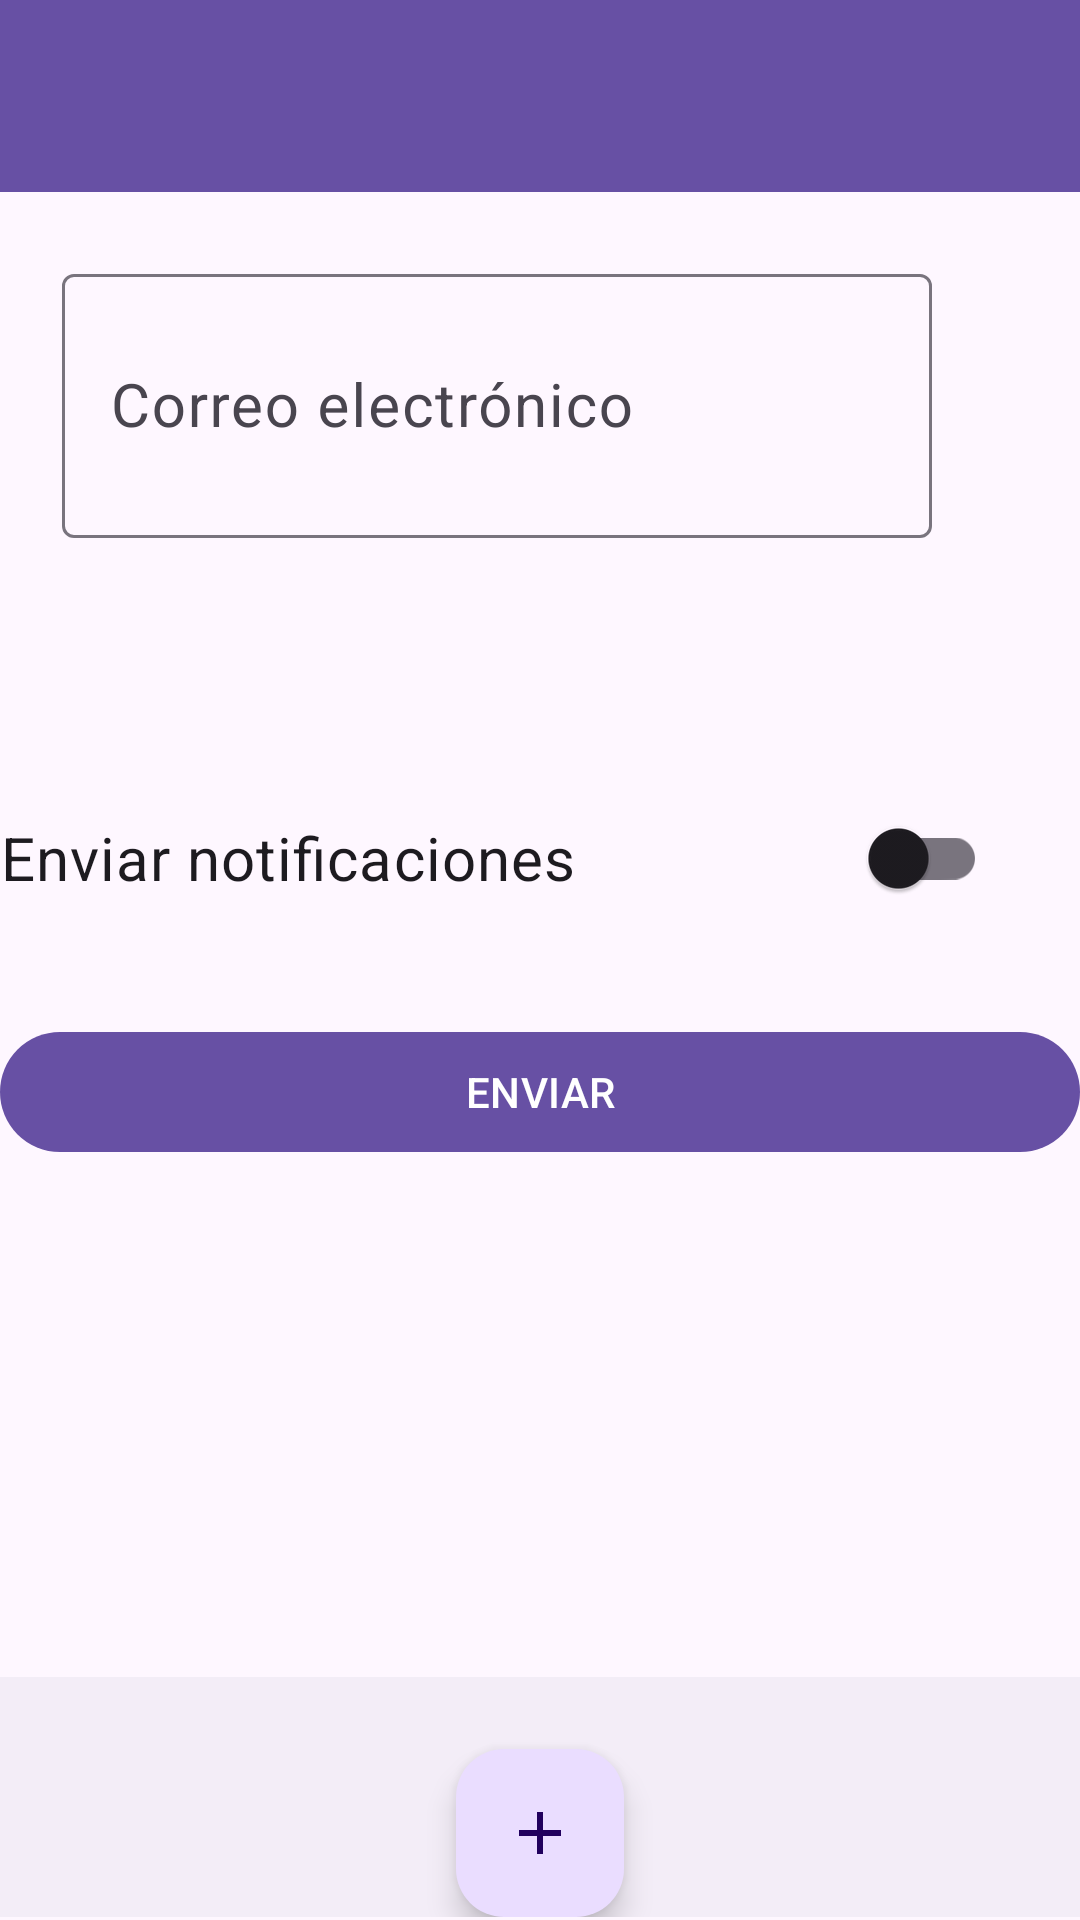

Where to tap for icons on this 1080x1920 app screen, as point (x, y):
add: point (540, 1833)
